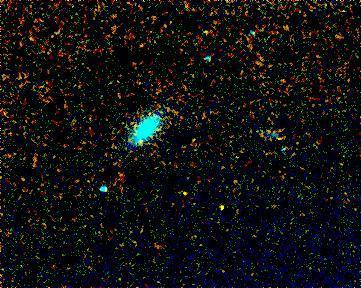star: (208, 192, 238, 222)
